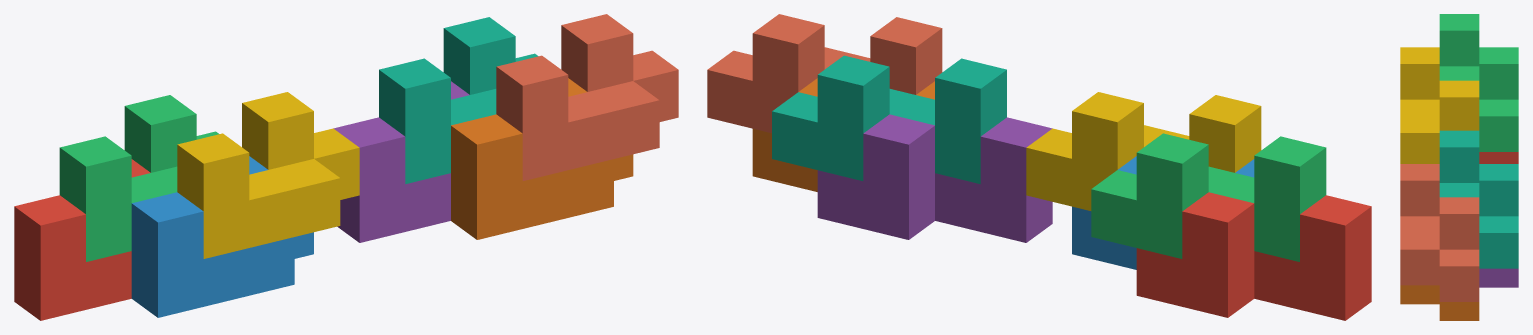
Rendered from tiling.obj.
3 renders of one model, left to right at view 1: azimuth 30°, elevation 25°; view 2: azimuth 150°, elevation 25°; view 3: azimuth 270°, elevation 25°, orthographic. The views are drawn at different scales.
Visible parts, largest first — view 1: copy_1_domain_8, copy_1_domain_4, copy_1_domain_2, copy_1_domain_6, copy_1_domain_3, copy_1_domain_7, copy_1_domain_1, copy_1_domain_5; view 2: copy_1_domain_1, copy_1_domain_5, copy_1_domain_3, copy_1_domain_7, copy_1_domain_4, copy_1_domain_8, copy_1_domain_6, copy_1_domain_2; view 3: copy_1_domain_8, copy_1_domain_7, copy_1_domain_3, copy_1_domain_4, copy_1_domain_6, copy_1_domain_5, copy_1_domain_1.
Boxes of the visible parts, x1,y1,x2,y2 form: copy_1_domain_8: (496,14,678,180); copy_1_domain_4: (177,92,359,258); copy_1_domain_2: (131,156,313,317); copy_1_domain_6: (451,78,633,239); copy_1_domain_3: (59,95,219,261); copy_1_domain_7: (379,17,538,183); copy_1_domain_1: (14,159,150,320); copy_1_domain_5: (333,81,469,242); copy_1_domain_1: (1136,192,1371,320); copy_1_domain_5: (817,114,1052,242); copy_1_domain_3: (1091,133,1326,261); copy_1_domain_7: (772,55,1006,183); copy_1_domain_4: (1026,92,1261,210); copy_1_domain_8: (707,14,942,133); copy_1_domain_6: (752,78,934,191); copy_1_domain_2: (1072,156,1254,269); copy_1_domain_8: (1400,164,1479,301); copy_1_domain_7: (1439,130,1518,268); copy_1_domain_3: (1439,14,1518,151); copy_1_domain_4: (1400,47,1479,163); copy_1_domain_6: (1400,285,1479,320); copy_1_domain_5: (1479,268,1518,287); copy_1_domain_1: (1479,152,1518,163).
Bounding box in the file's own units: 14 × 3 × 3.
